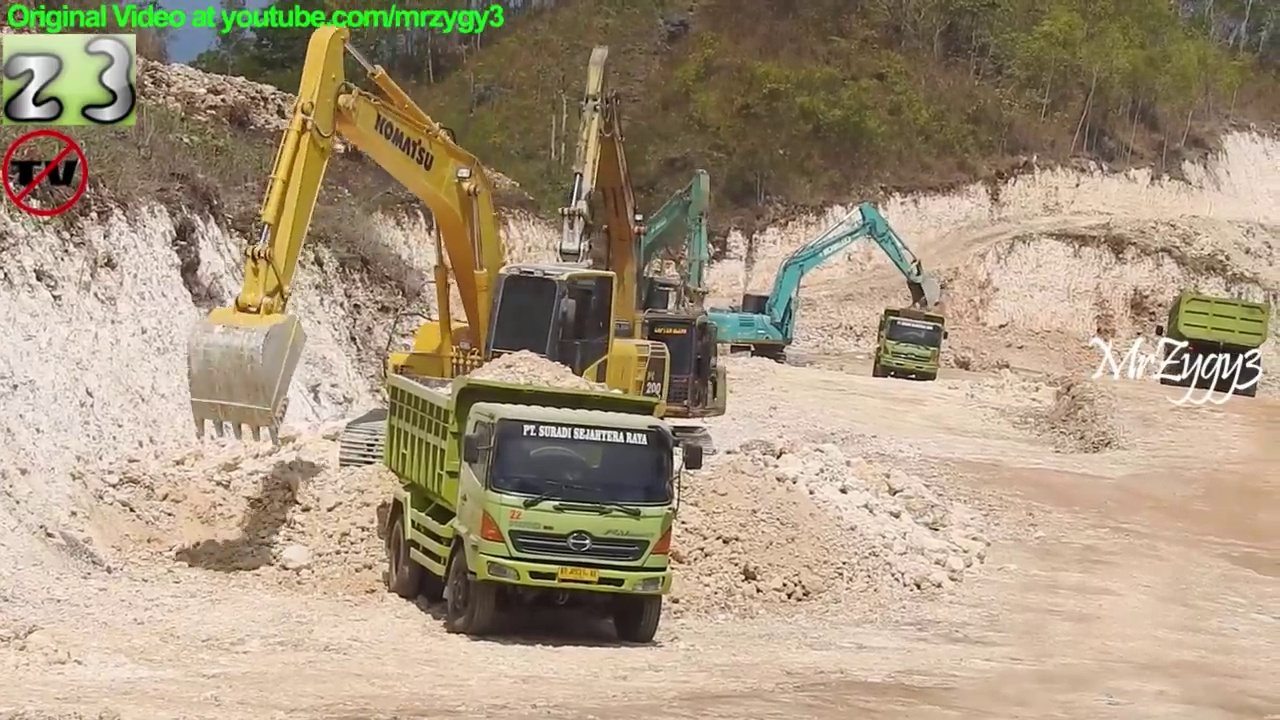excavator: (191, 25, 672, 480), (564, 38, 726, 418), (716, 204, 946, 350), (646, 157, 719, 346)
truck: (380, 368, 683, 645), (1168, 290, 1262, 395), (875, 306, 939, 385)
